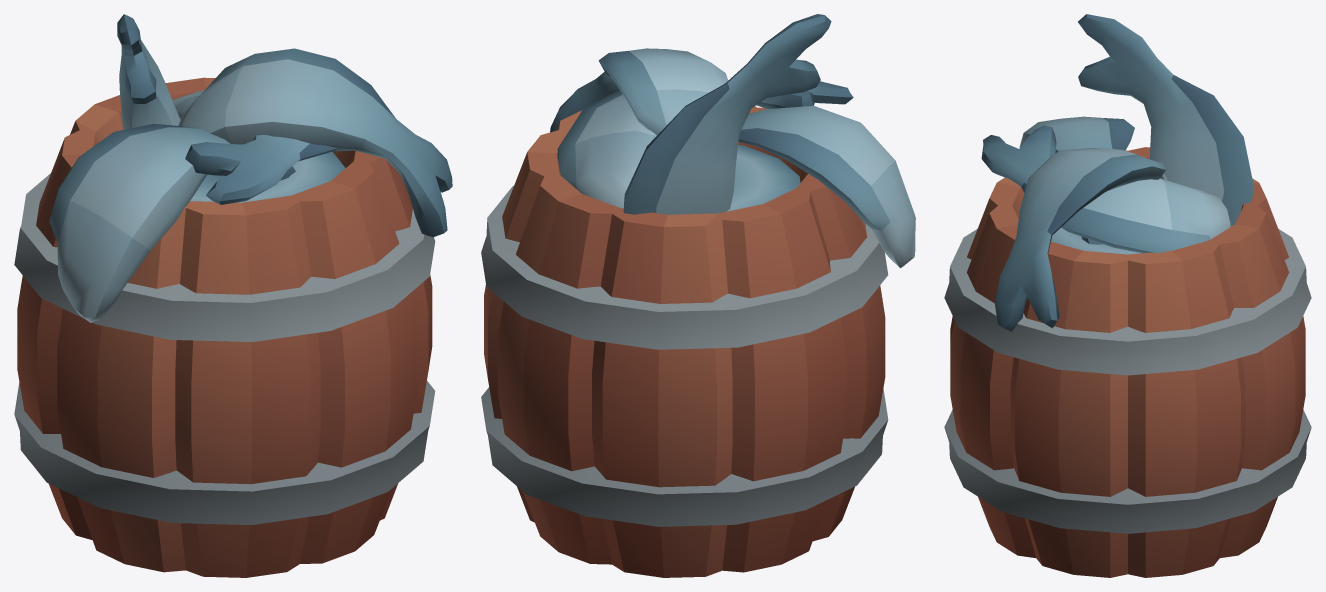
The model's file is prop_barrel_fish.glb.
3 views of the same model, side by side, from view 1: azimuth 30°, elevation 25°; view 2: azimuth 150°, elevation 25°; view 3: azimuth 270°, elevation 25° (orthographic). The views are drawn at different scales.
Visible parts, largest first — view 1: Food_Barrel_Fish; view 2: Food_Barrel_Fish; view 3: Food_Barrel_Fish.
Part boxes in pixels (<box>): Food_Barrel_Fish: <box>14,14,452,577</box>; Food_Barrel_Fish: <box>481,14,915,577</box>; Food_Barrel_Fish: <box>944,14,1311,577</box>.
Bounding box in the file's own units: 1.29 × 1.71 × 1.25.
Materials: 1 (1 with a texture image).
